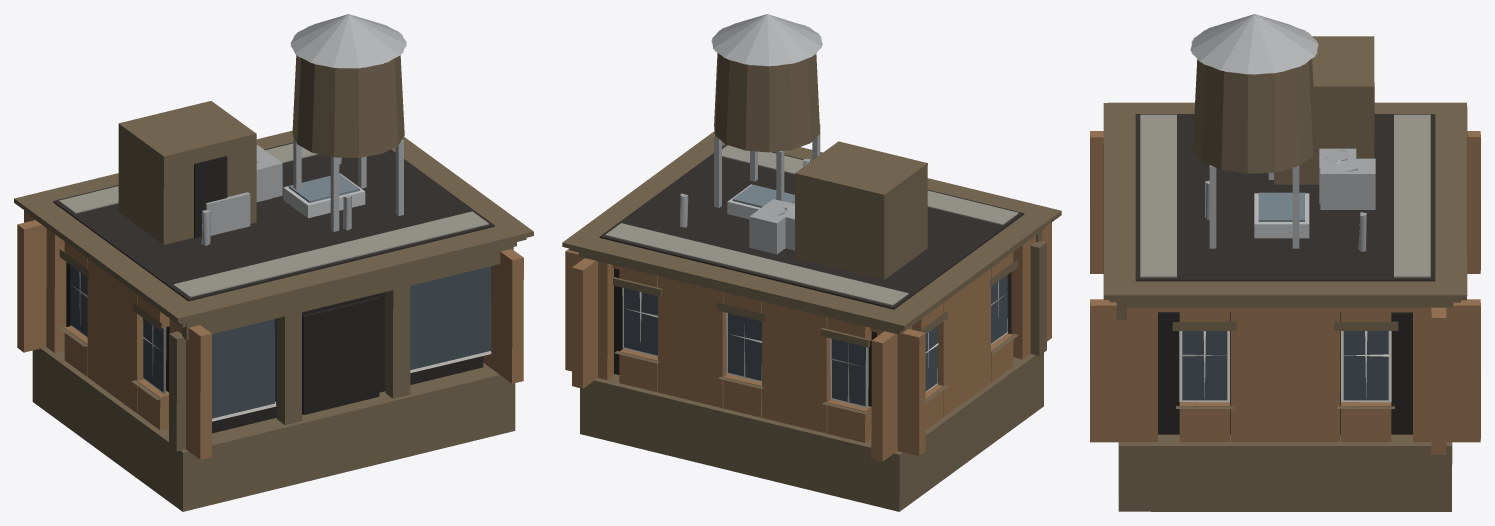
File: shop-lod1.glb
3 renders of one model, left to right at view 1: azimuth 30°, elevation 25°; view 2: azimuth 150°, elevation 25°; view 3: azimuth 270°, elevation 25°, orthographic. The views are drawn at different scales.
Visible parts, largest first — view 1: shop.001; view 2: shop.001; view 3: shop.001.
Part boxes in pixels (<box>): shop.001: <box>14,14,533,511</box>; shop.001: <box>562,14,1061,511</box>; shop.001: <box>1090,14,1480,511</box>.
Bounding box in the file's own units: 10.22 × 10.54 × 8.47.
